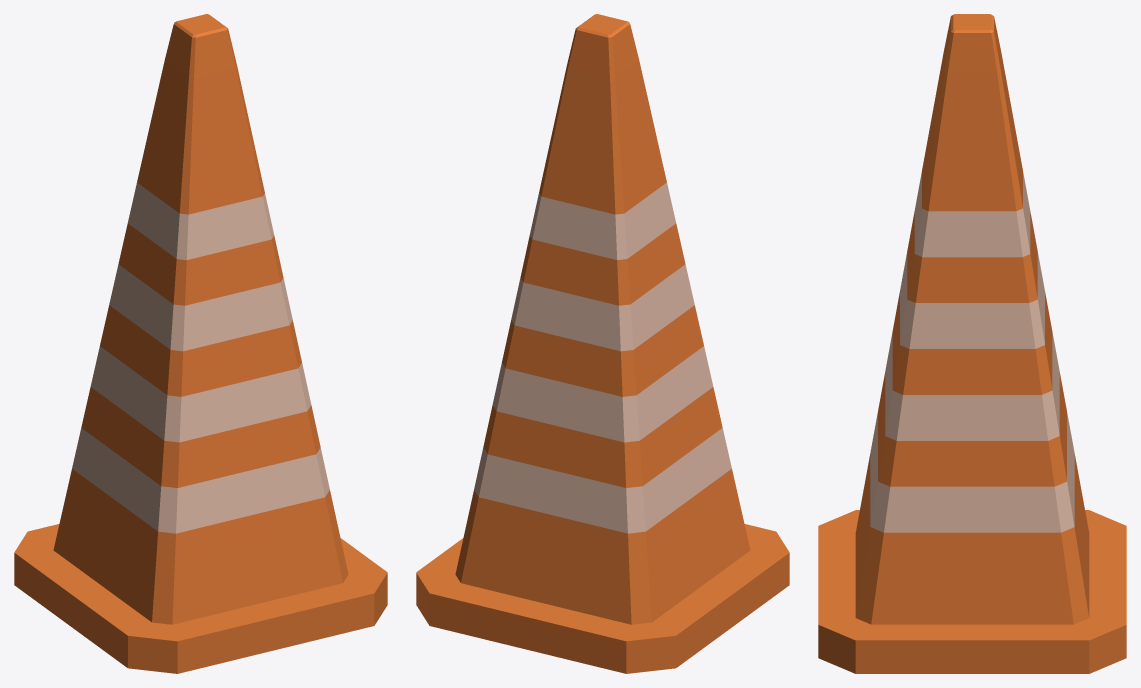
The model's file is Traffic Cones.fbx.
3 renders of one model, left to right at view 1: azimuth 30°, elevation 25°; view 2: azimuth 150°, elevation 25°; view 3: azimuth 270°, elevation 25°, orthographic. The views are drawn at different scales.
Parts seen in each view (by area): view 1: Traffic Cones; view 2: Traffic Cones; view 3: Traffic Cones.
Boxes of the visible parts, <box> form: Traffic Cones: <box>14,14,387,673</box>; Traffic Cones: <box>416,14,789,673</box>; Traffic Cones: <box>818,14,1126,673</box>.
Bounding box in the file's own units: 0.3086 × 0.3086 × 0.6477.
